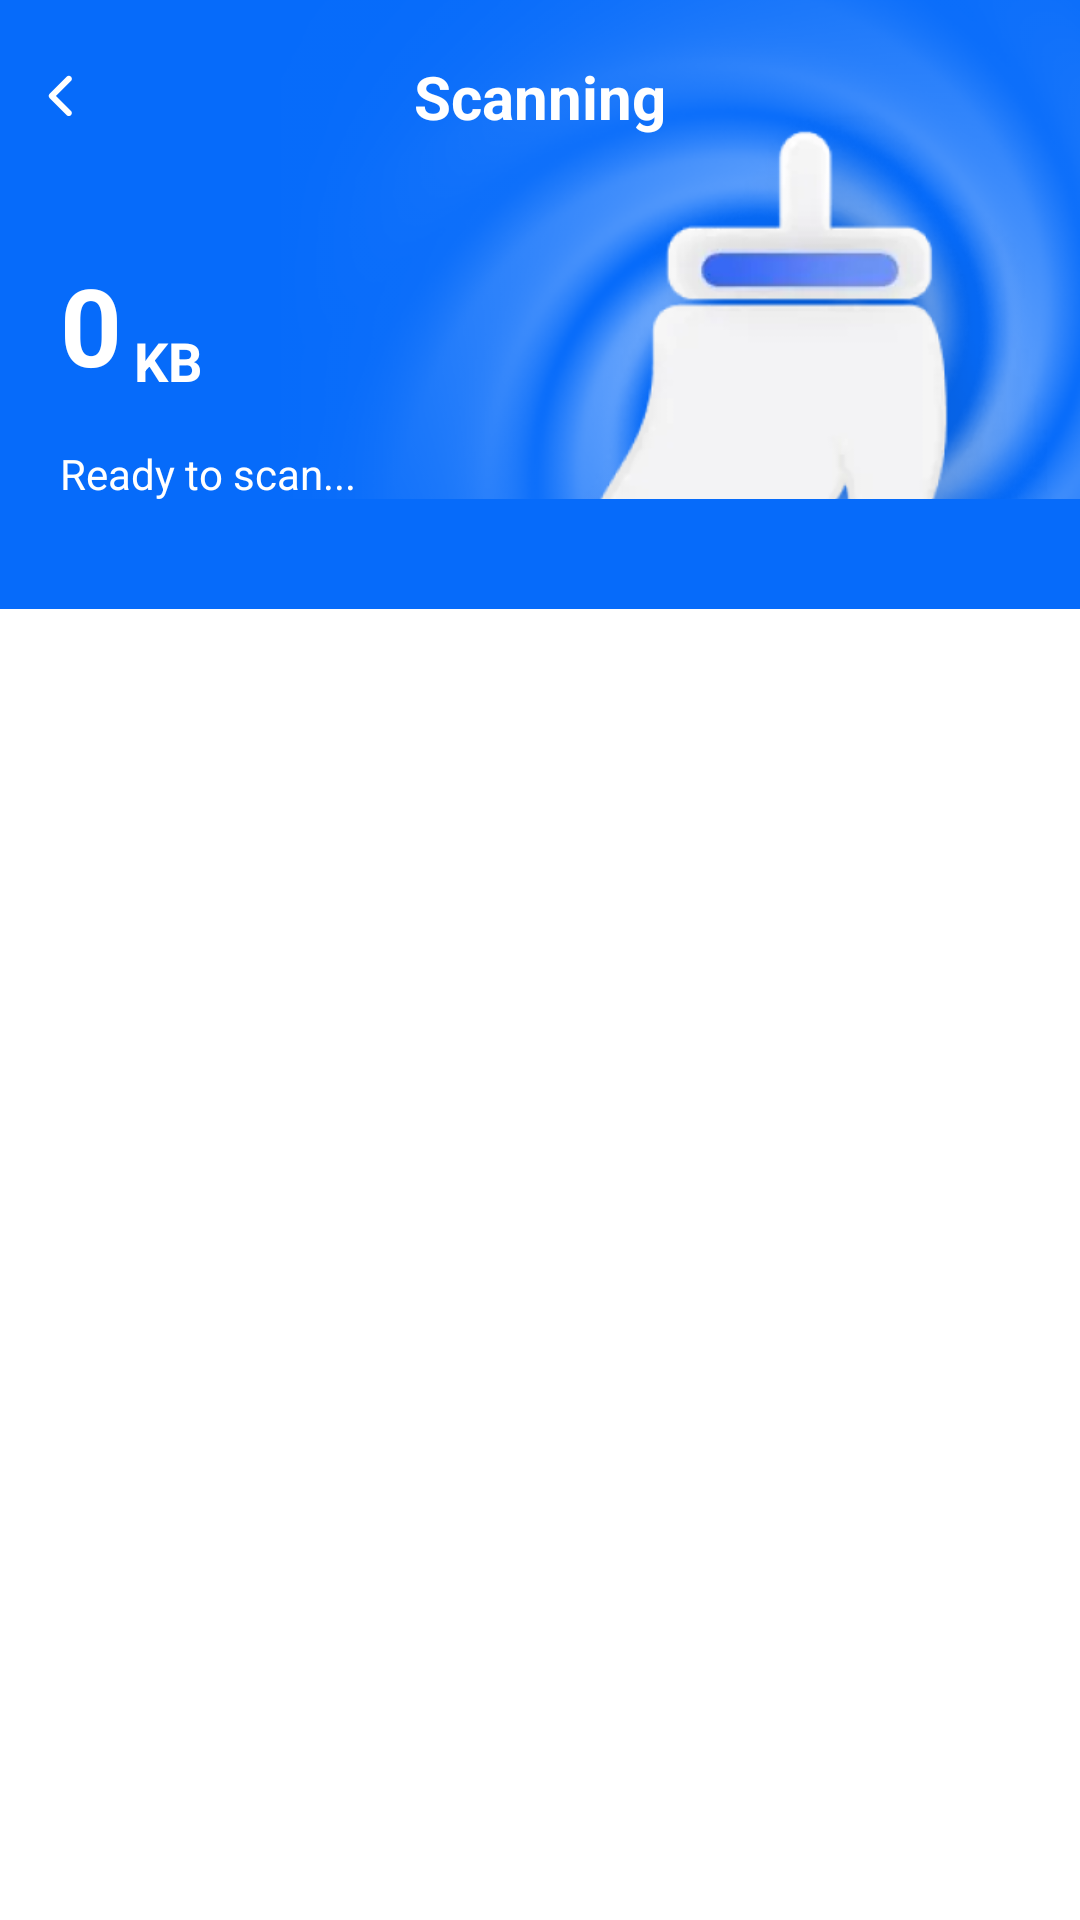

Icon click points for this 1080w x 1920h phone screenshot, format (x,y):
back bai: (60,95)
